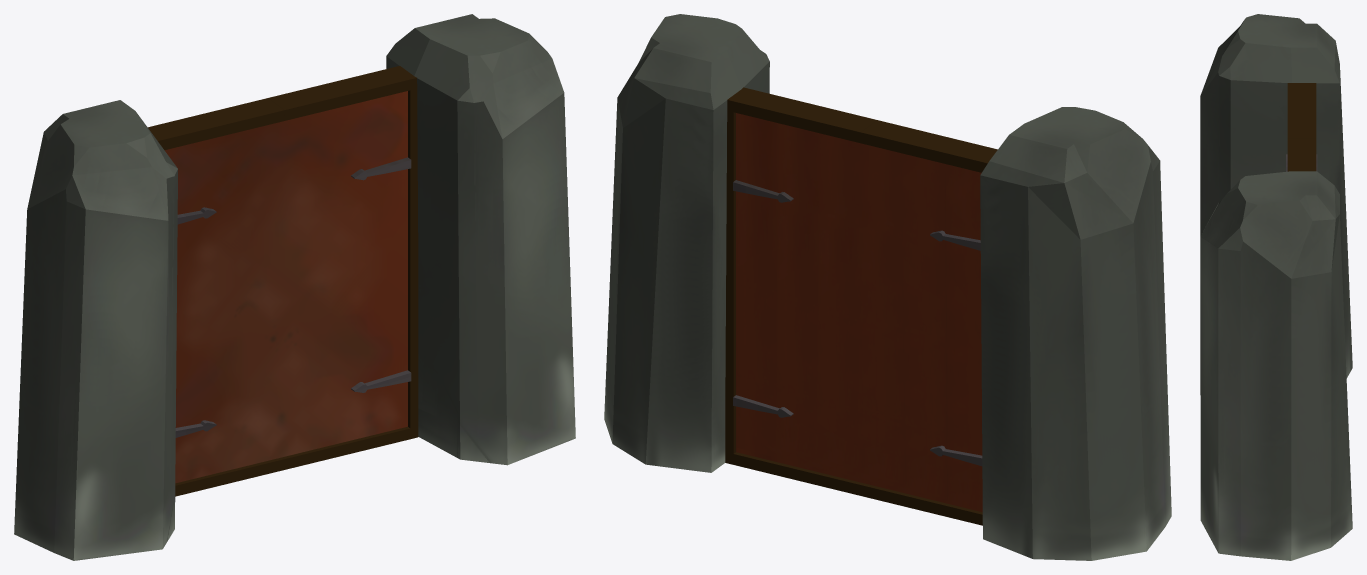
File: NoatunGate.glb
The picture shows the model from 3 angles, left to right: view 1: azimuth 30°, elevation 25°; view 2: azimuth 150°, elevation 25°; view 3: azimuth 270°, elevation 25°; orthographic projection. The views are drawn at different scales.
Visible parts, largest first — view 1: SidePillar, Low.001; view 2: SidePillar, Low.001; view 3: SidePillar, Low.001.
Part boxes in pixels (x1,y1,x2,y2): SidePillar: (14,14,575,560); Low.001: (148,66,418,496); SidePillar: (604,14,1171,560); Low.001: (725,87,997,525); SidePillar: (1200,14,1352,560); Low.001: (1286,83,1317,171).
Bounding box in the file's own units: 7.83 × 5.48 × 2.24.
Materials: 1 (1 with a texture image).
